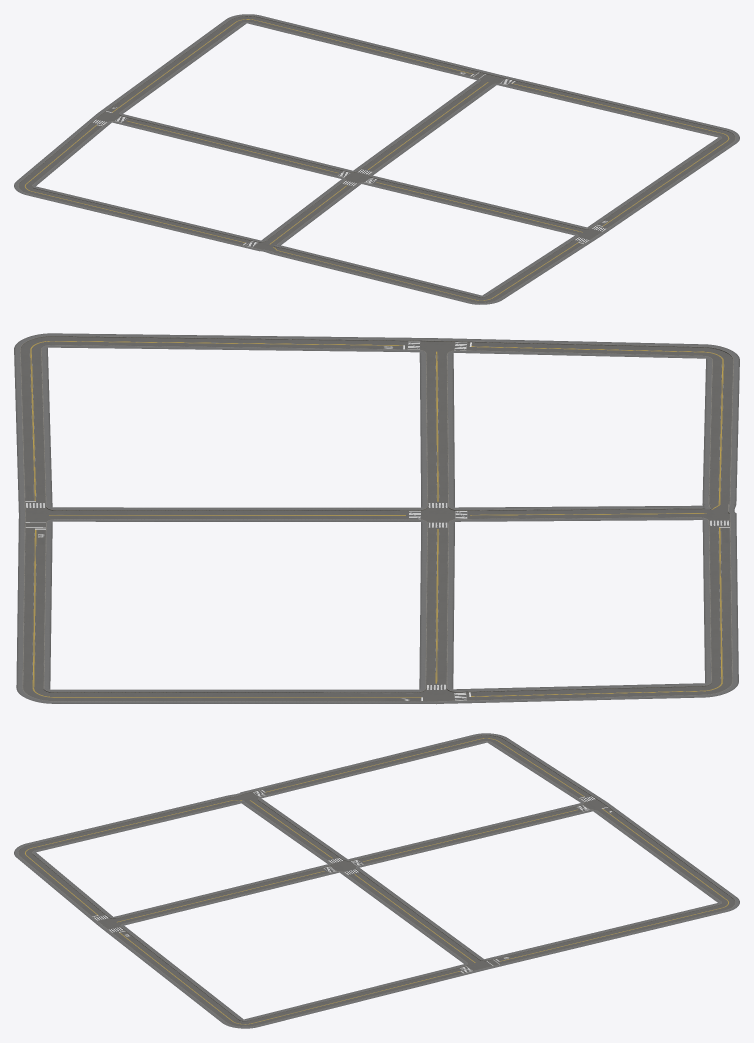
The model's file is helainterskit_0.fbx.
3 views of the same model, one above another, from view 1: azimuth 30°, elevation 25°; view 2: azimuth 150°, elevation 25°; view 3: azimuth 270°, elevation 25° (orthographic). The views are drawn at different scales.
Visible parts, largest first — view 1: CityEngineMaterial_1_m_6, CityEngineMaterial_1_m_7, CityEngineMaterial_1_m_4, CityEngineMaterial_1_m_3, CityEngineMaterial_1_m_13, CityEngineMaterial_1_m_16, CityEngineMaterial_1_m_2, CityEngineMaterial_1_m_12, CityEngineMaterial_1_m_11, CityEngineMaterial_1_m_14, CityEngineMaterial_1_m_17, CityEngineMaterial_1_m_9 (+16 smaller); view 2: CityEngineMaterial_1_m_6, CityEngineMaterial_1_m_7, CityEngineMaterial_1_m_4, CityEngineMaterial_1_m_13, CityEngineMaterial_1_m_16, CityEngineMaterial_1_m_3, CityEngineMaterial_1_m_12, CityEngineMaterial_1_m_2, CityEngineMaterial_1_m_11, CityEngineMaterial_1_m_14, CityEngineMaterial_1_m_17, CityEngineMaterial_1_m_9 (+25 smaller); view 3: CityEngineMaterial_1_m_6, CityEngineMaterial_1_m_7, CityEngineMaterial_1_m_3, CityEngineMaterial_1_m_4, CityEngineMaterial_1_m_13, CityEngineMaterial_1_m_16, CityEngineMaterial_1_m_2, CityEngineMaterial_1_m_12, CityEngineMaterial_1_m_11, CityEngineMaterial_1_m_14, CityEngineMaterial_1_m_9, CityEngineMaterial_1_m_17 (+16 smaller).
Part boxes in pixels (<box>): CityEngineMaterial_1_m_6: <box>124,118,341,175</box>; CityEngineMaterial_1_m_7: <box>373,180,586,234</box>; CityEngineMaterial_1_m_4: <box>252,17,476,73</box>; CityEngineMaterial_1_m_3: <box>362,80,493,170</box>; CityEngineMaterial_1_m_13: <box>29,189,248,242</box>; CityEngineMaterial_1_m_16: <box>274,248,477,301</box>; CityEngineMaterial_1_m_2: <box>113,20,240,113</box>; CityEngineMaterial_1_m_12: <box>603,140,731,227</box>; CityEngineMaterial_1_m_11: <box>575,97,724,135</box>; CityEngineMaterial_1_m_14: <box>264,184,351,245</box>; CityEngineMaterial_1_m_17: <box>487,241,577,299</box>; CityEngineMaterial_1_m_9: <box>21,124,95,184</box>; CityEngineMaterial_1_m_6: <box>426,529,448,683</box>; CityEngineMaterial_1_m_7: <box>426,351,448,501</box>; CityEngineMaterial_1_m_4: <box>23,529,45,688</box>; CityEngineMaterial_1_m_13: <box>709,527,731,682</box>; CityEngineMaterial_1_m_16: <box>709,360,733,504</box>; CityEngineMaterial_1_m_3: <box>49,511,405,519</box>; CityEngineMaterial_1_m_12: <box>51,337,403,348</box>; CityEngineMaterial_1_m_2: <box>53,693,421,700</box>; CityEngineMaterial_1_m_11: <box>20,349,44,453</box>; CityEngineMaterial_1_m_14: <box>470,509,707,518</box>; CityEngineMaterial_1_m_17: <box>471,343,704,355</box>; CityEngineMaterial_1_m_9: <box>471,686,703,700</box>; CityEngineMaterial_1_m_6: <box>359,807,580,863</box>; CityEngineMaterial_1_m_7: <box>114,868,327,924</box>; CityEngineMaterial_1_m_3: <box>349,873,481,964</box>; CityEngineMaterial_1_m_4: <box>500,905,724,963</box>; CityEngineMaterial_1_m_13: <box>266,737,482,794</box>; CityEngineMaterial_1_m_16: <box>29,797,236,850</box>; CityEngineMaterial_1_m_2: <box>597,809,732,901</box>; CityEngineMaterial_1_m_12: <box>114,932,238,1022</box>; CityEngineMaterial_1_m_11: <box>248,985,397,1025</box>; CityEngineMaterial_1_m_14: <box>245,799,337,859</box>; CityEngineMaterial_1_m_9: <box>493,739,589,796</box>; CityEngineMaterial_1_m_17: <box>21,854,103,914</box>.
Size of the model in its own units: 304 by 0.2 by 315.
